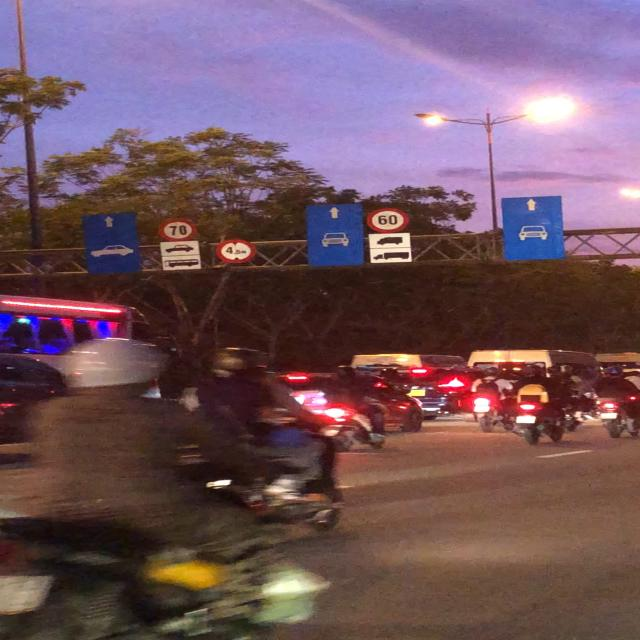Bien bao han che chieu cao: (217, 238, 260, 268)
Bien bao toc do toi da cho phep: (359, 206, 411, 234), (154, 218, 194, 240)
